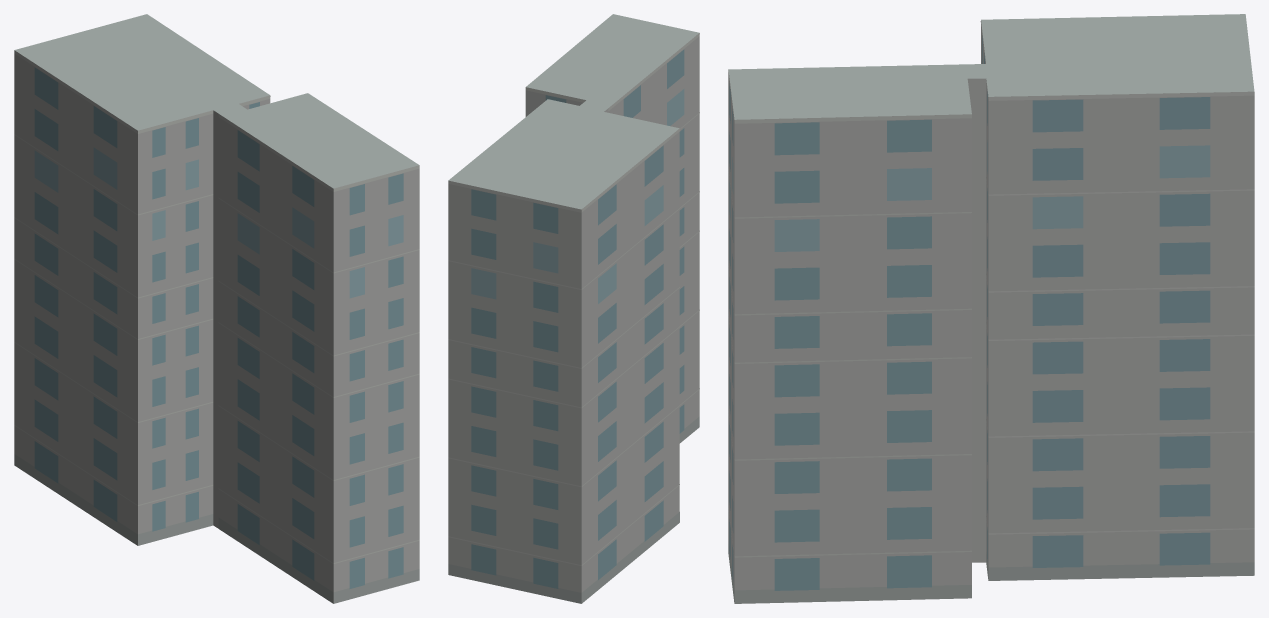
Rendered from survey-upis-32682548.glb.
The picture shows the model from 3 angles, left to right: view 1: azimuth 30°, elevation 25°; view 2: azimuth 150°, elevation 25°; view 3: azimuth 270°, elevation 25°; orthographic projection. The views are drawn at different scales.
Visible parts, largest first — view 1: survey-upis-32682548.tmp; view 2: survey-upis-32682548.tmp; view 3: survey-upis-32682548.tmp.
Part boxes in pixels (box(x1,y1,x2,y2)): survey-upis-32682548.tmp: box(14, 14, 419, 603); survey-upis-32682548.tmp: box(448, 14, 699, 603); survey-upis-32682548.tmp: box(728, 14, 1254, 603).
Size of the model in its own units: 14.05 by 29.9 by 29.47.
